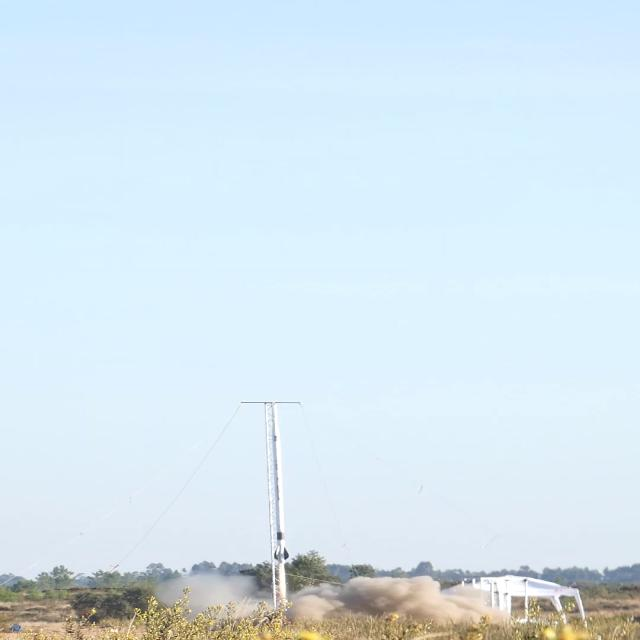Rocket: (271, 419, 289, 562)
